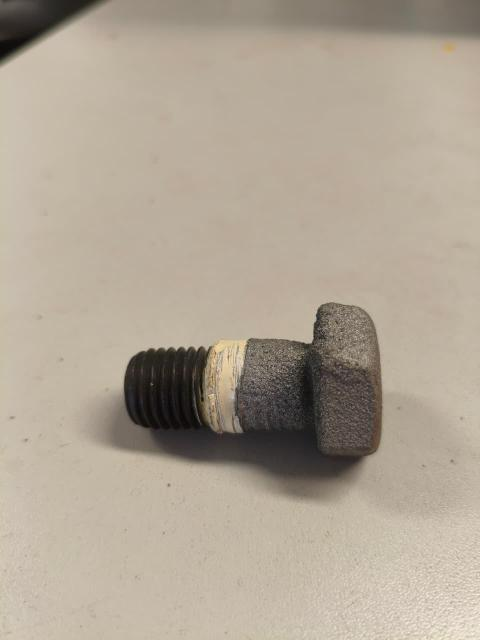Metal: (127, 308, 380, 462)
